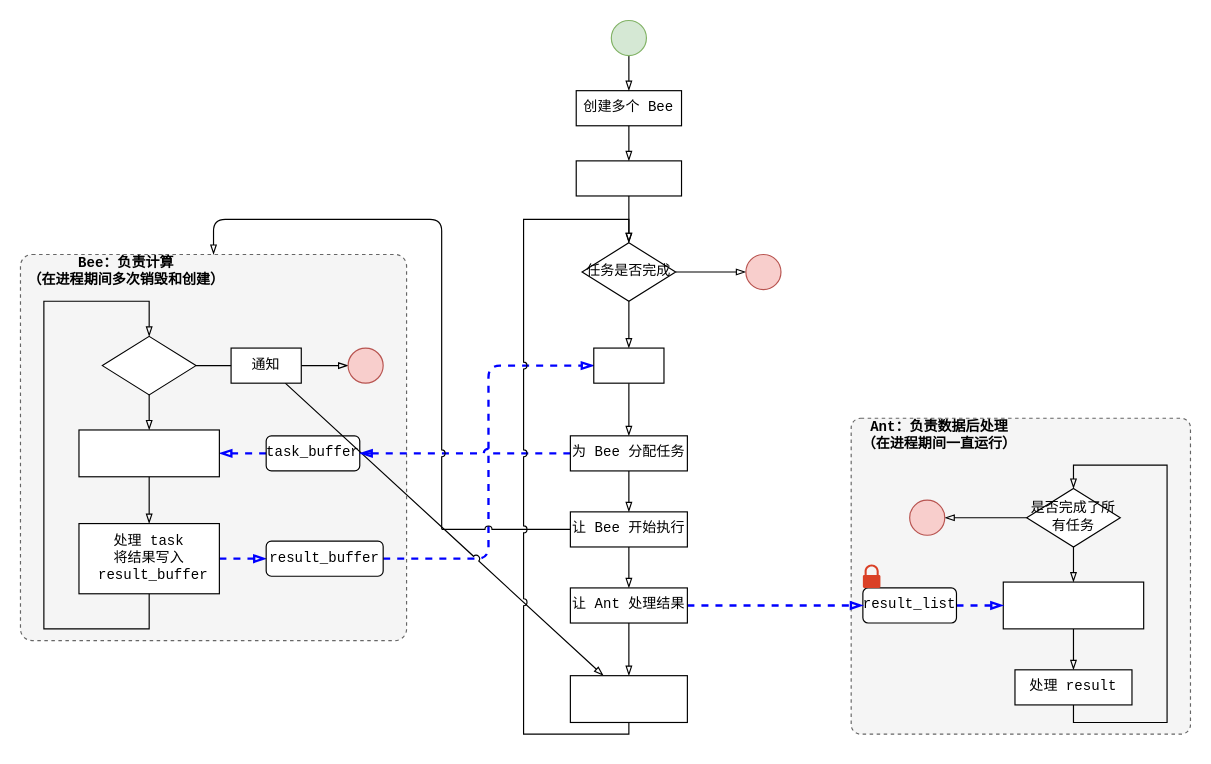
Image size: 1211x764. Some labels were removed from this diagram. The box of each missing label's shape, as (x1, y1, x2, y2) in pixels:
task_buffer 是否为空: (101, 335, 196, 395)
从 result_list 取出 result: (1002, 581, 1144, 629)
从 task_buffer 取出 task: (78, 429, 219, 477)
创建一个 Ant 并让 Ant 执行: (575, 160, 682, 196)
收集结果: (593, 347, 664, 383)
等待被唤醒 或超时: (569, 675, 687, 722)
